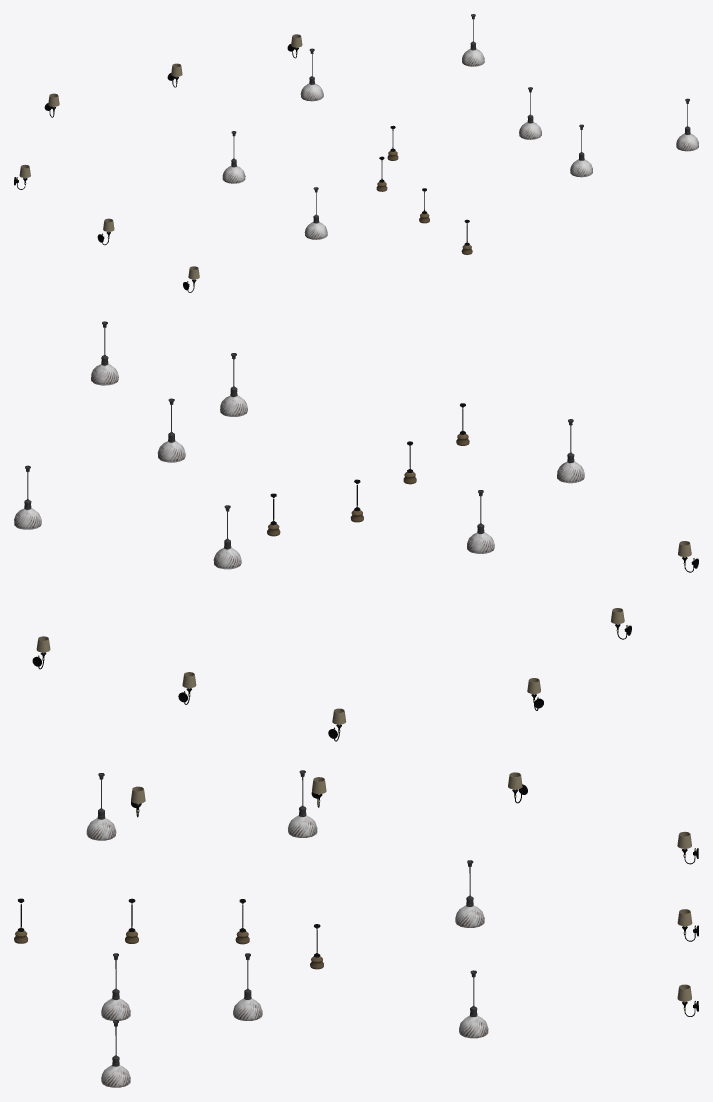
3 views of the same model, one above another, from view 1: azimuth 30°, elevation 25°; view 2: azimuth 150°, elevation 25°; view 3: azimuth 270°, elevation 25° (orthographic). The views are drawn at different scales.
Visible parts, largest first — view 1: Bistro_Research_Interior_Paris_Ceiling_Light_03_2360, Bistro_Research_Interior_Paris_Ceiling_Light_02_2358; view 2: Bistro_Research_Interior_Paris_Ceiling_Light_01_2356 (×3), Bistro_Research_Interior_Paris_Ceiling_Light_04_2362, Bistro_Research_Interior_Paris_Ceiling_Light_03_2360; view 3: Bistro_Research_Interior_Paris_Ceiling_Light_01_2356 (×4), Bistro_Research_Interior_Paris_Ceiling_Light_02_2358, Bistro_Research_Interior_Paris_Ceiling_Light_03_2360, Bistro_Research_Interior_Paris_Ceiling_Light_04_2362.
Boxes of the visible parts, left/top/right/bottom form: Bistro_Research_Interior_Paris_Ceiling_Light_03_2360: left=222, top=131, right=245, bottom=183; Bistro_Research_Interior_Paris_Ceiling_Light_02_2358: left=300, top=48, right=323, bottom=101; Bistro_Research_Interior_Paris_Ceiling_Light_01_2356 (×3): left=14, top=321, right=247, bottom=529; Bistro_Research_Interior_Paris_Ceiling_Light_04_2362: left=557, top=419, right=584, bottom=483; Bistro_Research_Interior_Paris_Ceiling_Light_03_2360: left=467, top=490, right=494, bottom=553; Bistro_Research_Interior_Paris_Ceiling_Light_01_2356 (×4): left=101, top=953, right=488, bottom=1087; Bistro_Research_Interior_Paris_Ceiling_Light_02_2358: left=455, top=860, right=484, bottom=927; Bistro_Research_Interior_Paris_Ceiling_Light_03_2360: left=288, top=770, right=317, bottom=837; Bistro_Research_Interior_Paris_Ceiling_Light_04_2362: left=86, top=773, right=116, bottom=840.
Size of the model in its own units: 11.69 by 1.86 by 10.21.
Materials: 4 (4 with a texture image).
